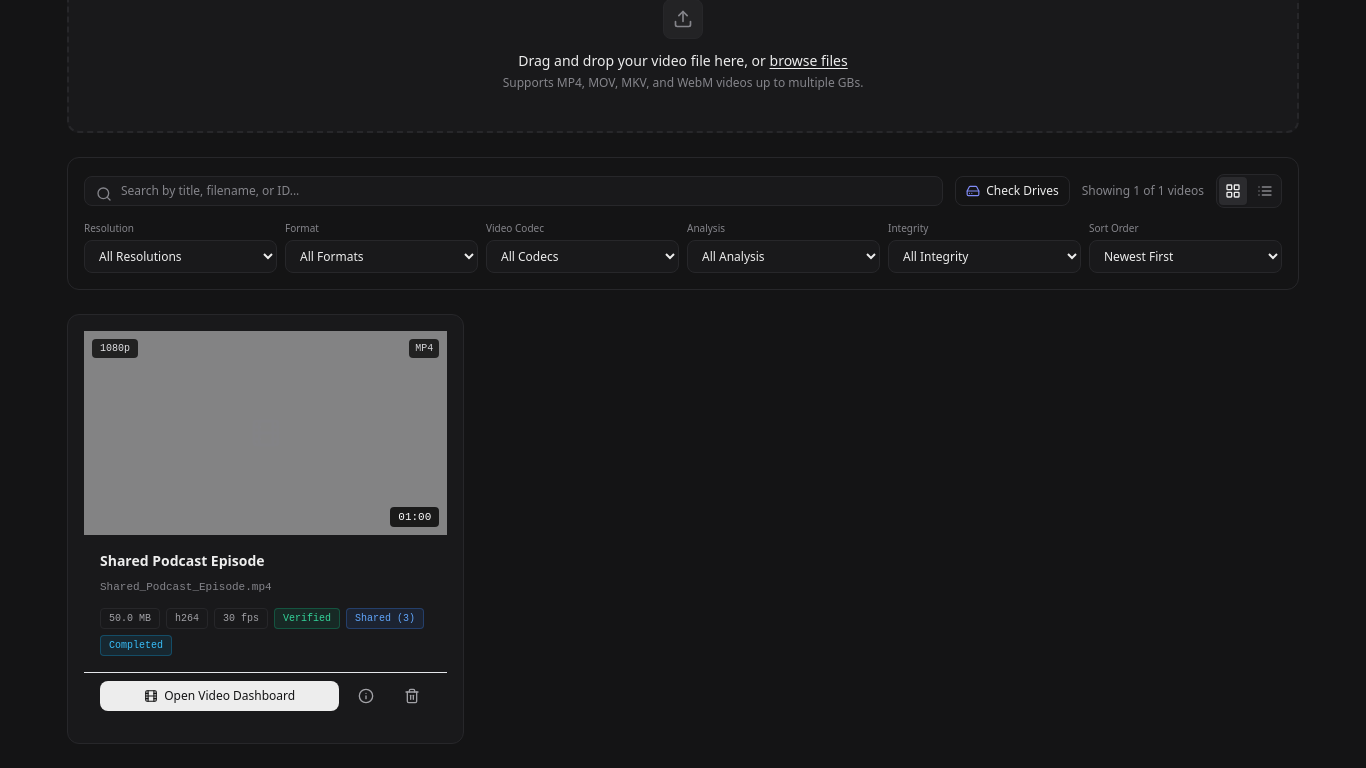
Test: P1.8 Media Deduplication & Reference Counting UI Verification › displays Shared Asset Notice in delete confirmation modal when reference_count > 1
This screenshot has width=1366, height=768.
(page scrolled)
Expected: the heading "Shared Podcast Episode" is shown, [100, 551, 265, 570]
Click delete button
Click the button titled "Delete Video".
click(412, 696)  # box [393, 681, 431, 711]
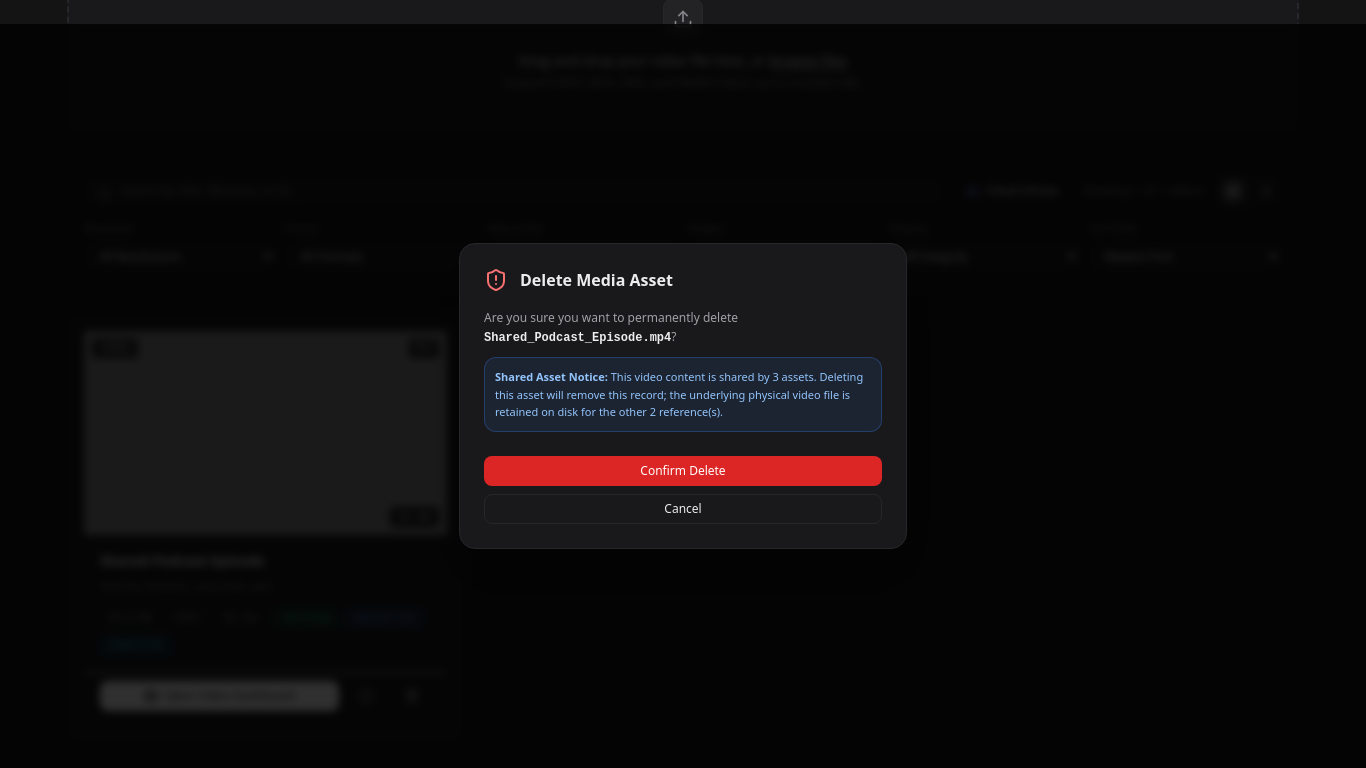
Result: the heading "Delete Media Asset" is shown at [520, 268, 673, 292]
Result: the text "Shared Asset Notice:" is shown at [495, 369, 608, 384]
Result: the text "retained on disk for the other 2 reference(s)" is shown at [484, 357, 882, 432]
